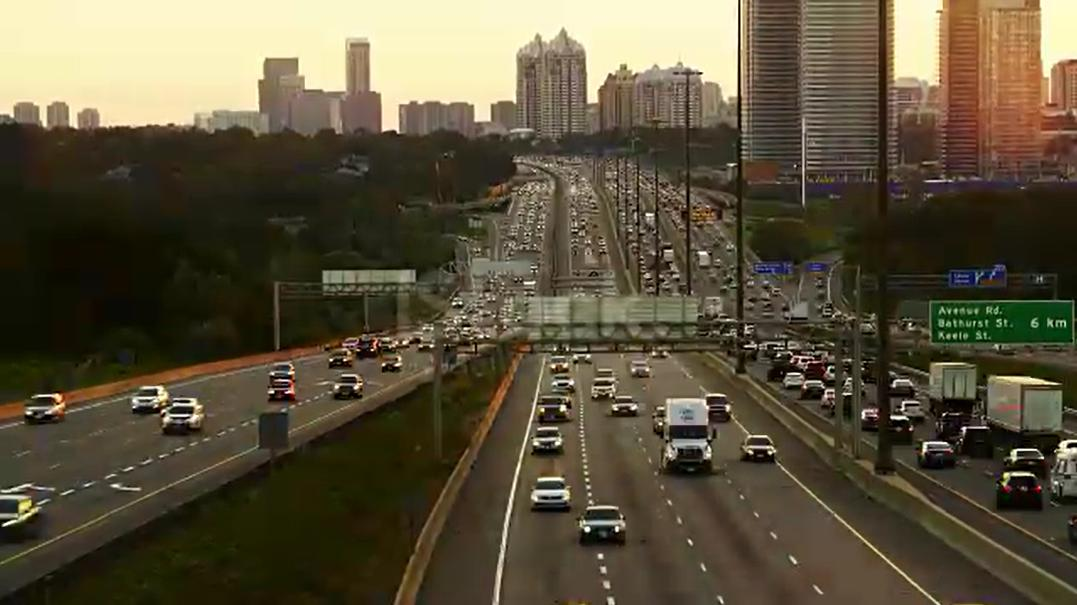car: (570, 501, 647, 552), (518, 472, 589, 522), (985, 470, 1054, 518), (910, 435, 966, 473), (522, 425, 580, 461), (733, 430, 789, 467), (877, 408, 922, 446), (1004, 443, 1044, 483), (957, 421, 995, 461), (532, 387, 567, 421), (586, 378, 625, 408), (853, 405, 889, 437), (547, 370, 575, 406), (618, 356, 662, 378), (800, 377, 826, 405), (833, 376, 871, 395), (610, 396, 641, 419), (888, 375, 915, 400), (765, 360, 793, 381), (804, 361, 829, 384), (783, 368, 802, 395), (824, 363, 844, 387), (821, 387, 836, 412)
truck: (973, 372, 1075, 451), (655, 394, 728, 496), (918, 357, 978, 424)
